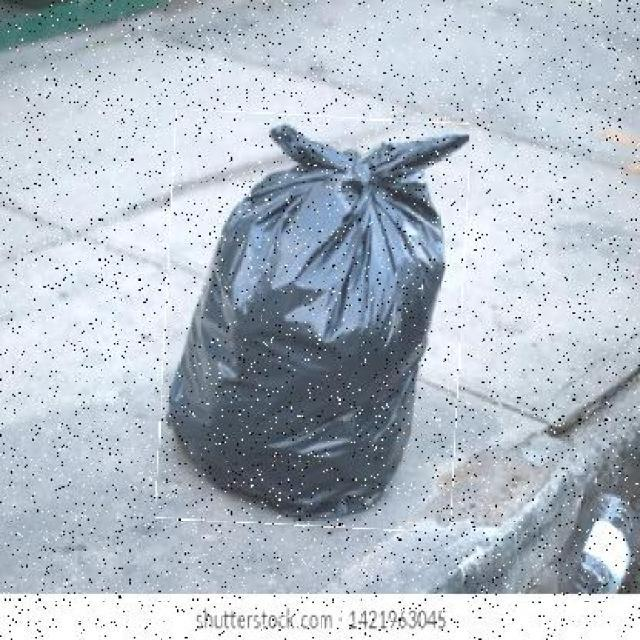waste: (160, 112, 466, 530)
